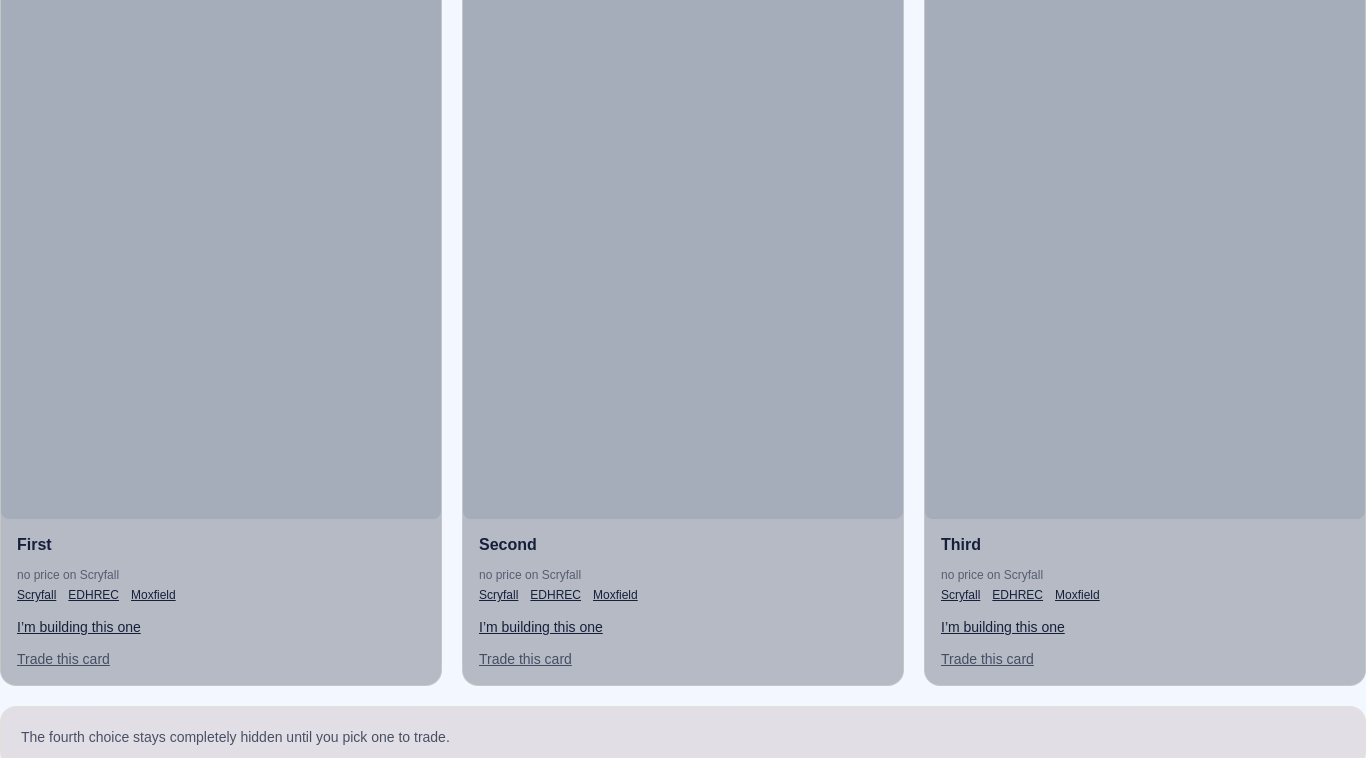
Scenario: DemoCardTrade › names what was traded, and can be reset to try again
(page scrolled)
Click the button "Trade this card" below "First" at point(63, 659), box x1=17 y1=649 x2=110 y2=669
(page scrolled)
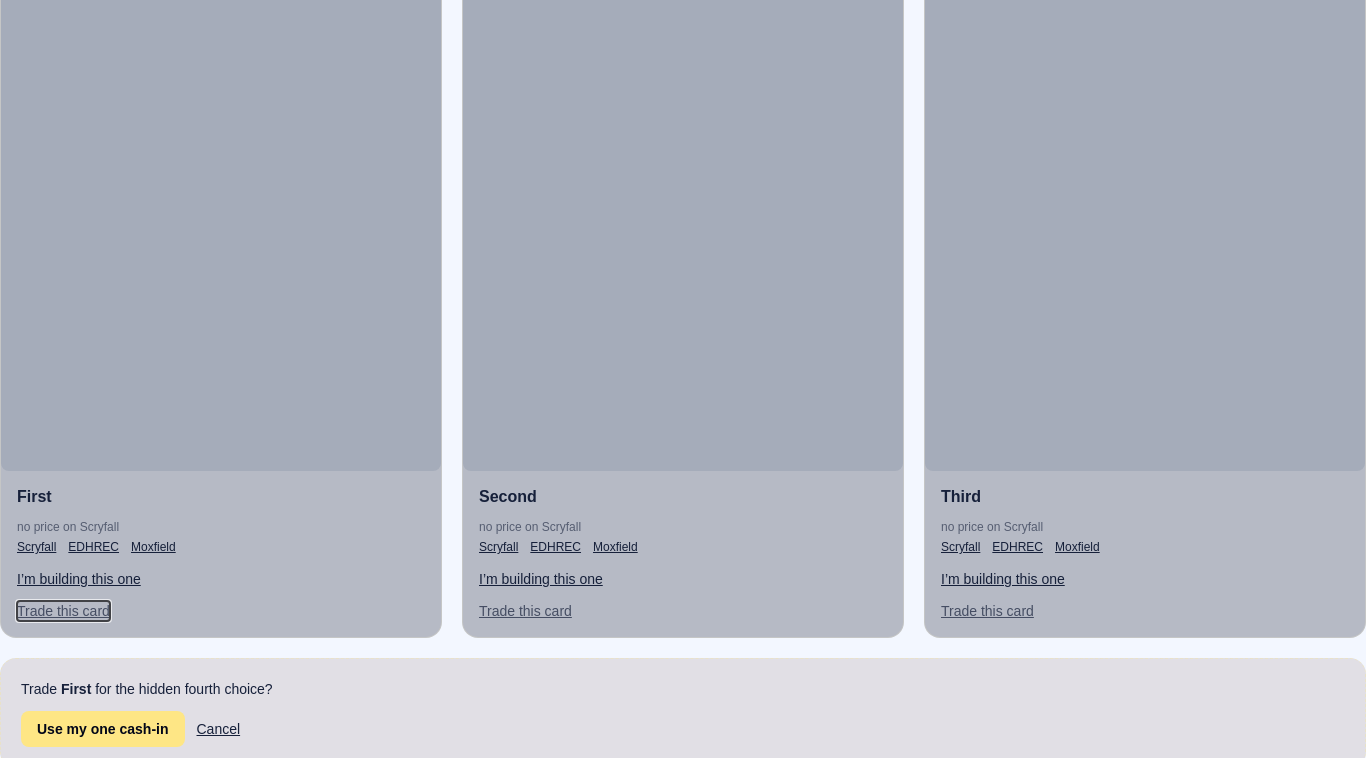
Click the button "Use my one cash-in" at point(103, 729), box x1=21 y1=711 x2=184 y2=747
(page scrolled)
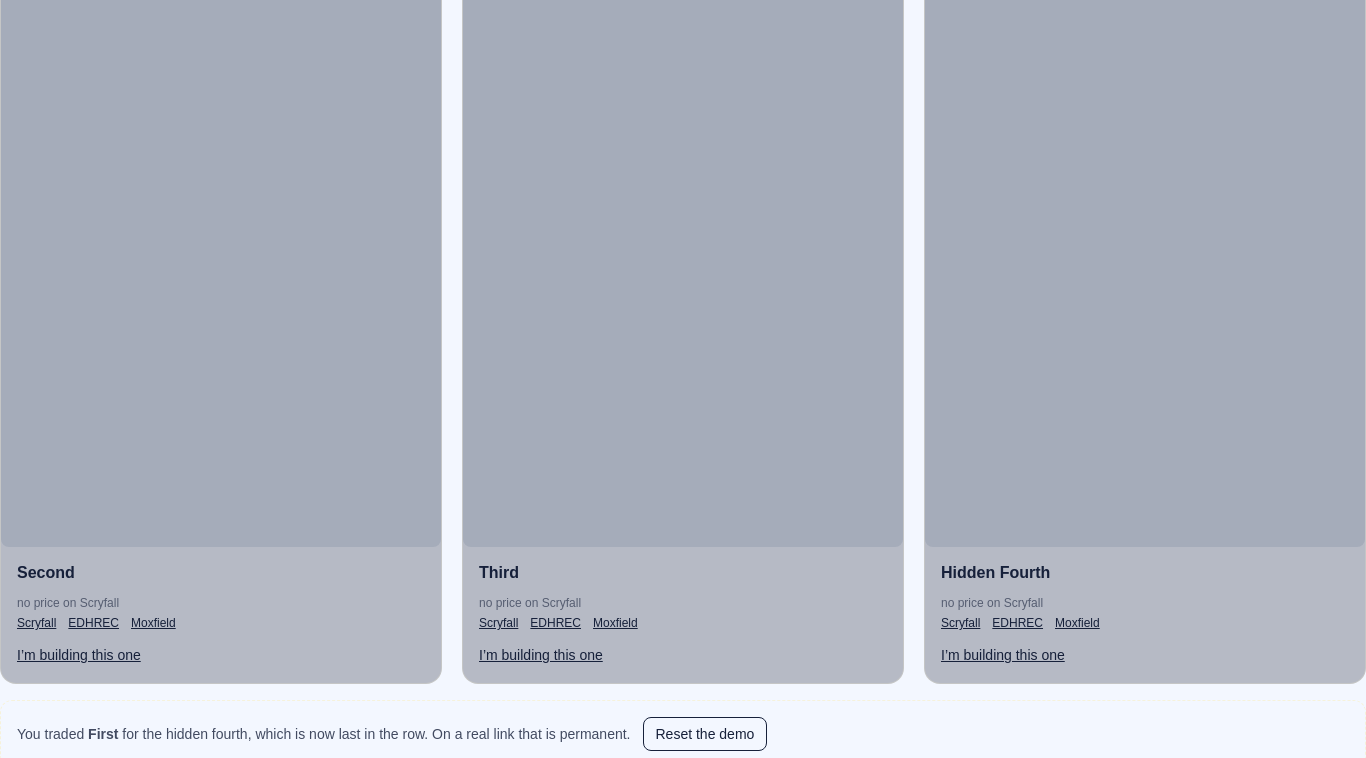
Now the text "You traded" shows "First", box x1=88 y1=726 x2=118 y2=742
Click the button "Reset the demo" at point(705, 734), box x1=642 y1=717 x2=767 y2=751
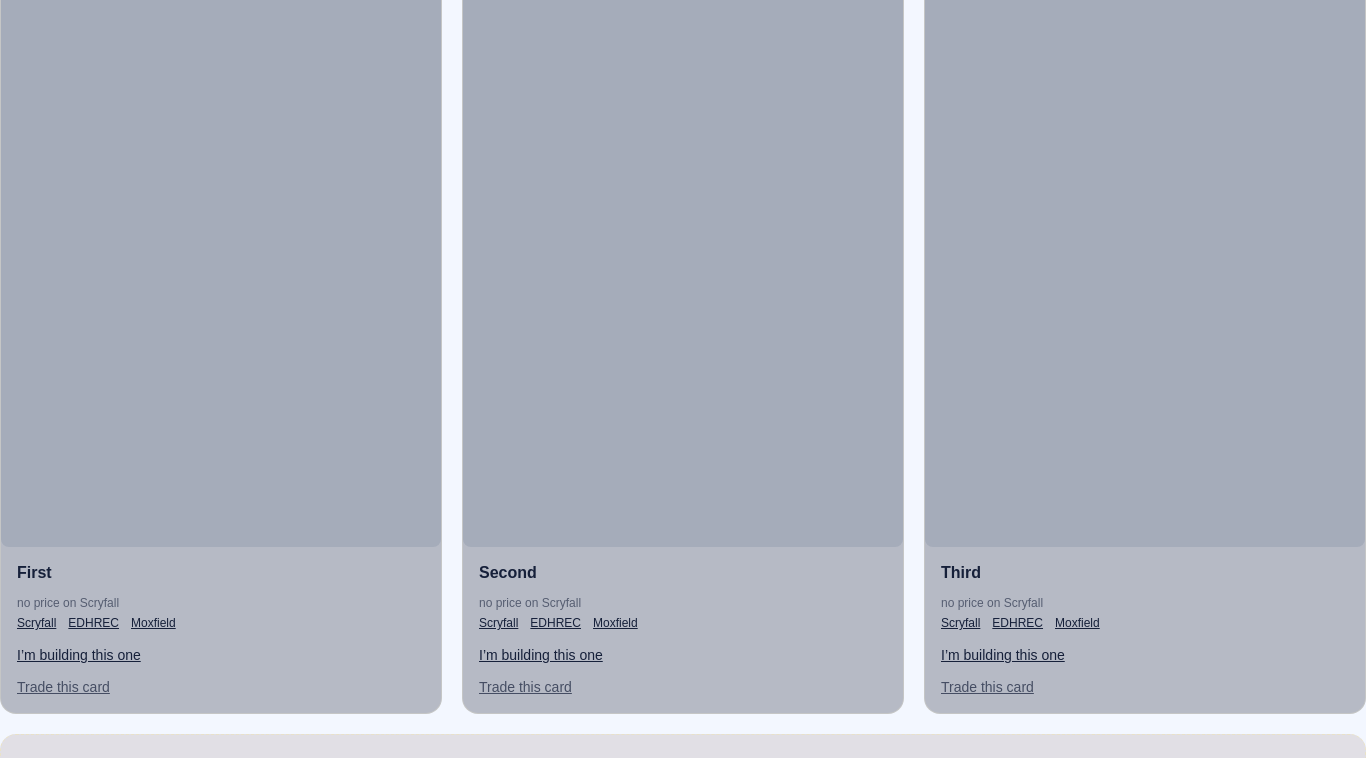
Now the number of buttons "Trade this card" is 3, box x1=17 y1=677 x2=110 y2=697; x1=479 y1=677 x2=572 y2=697; x1=941 y1=677 x2=1034 y2=697
